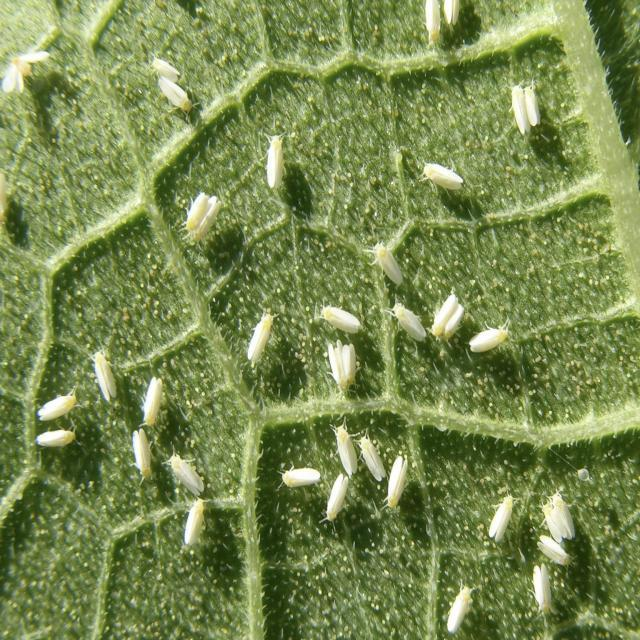Whitefly: (372, 151, 539, 372), (86, 328, 228, 551), (274, 422, 424, 546), (485, 464, 603, 618), (306, 288, 378, 414), (138, 39, 216, 119), (23, 363, 84, 462), (412, 4, 490, 64), (180, 179, 230, 264), (240, 301, 296, 374), (257, 122, 307, 198), (501, 72, 553, 140), (442, 570, 489, 630)
